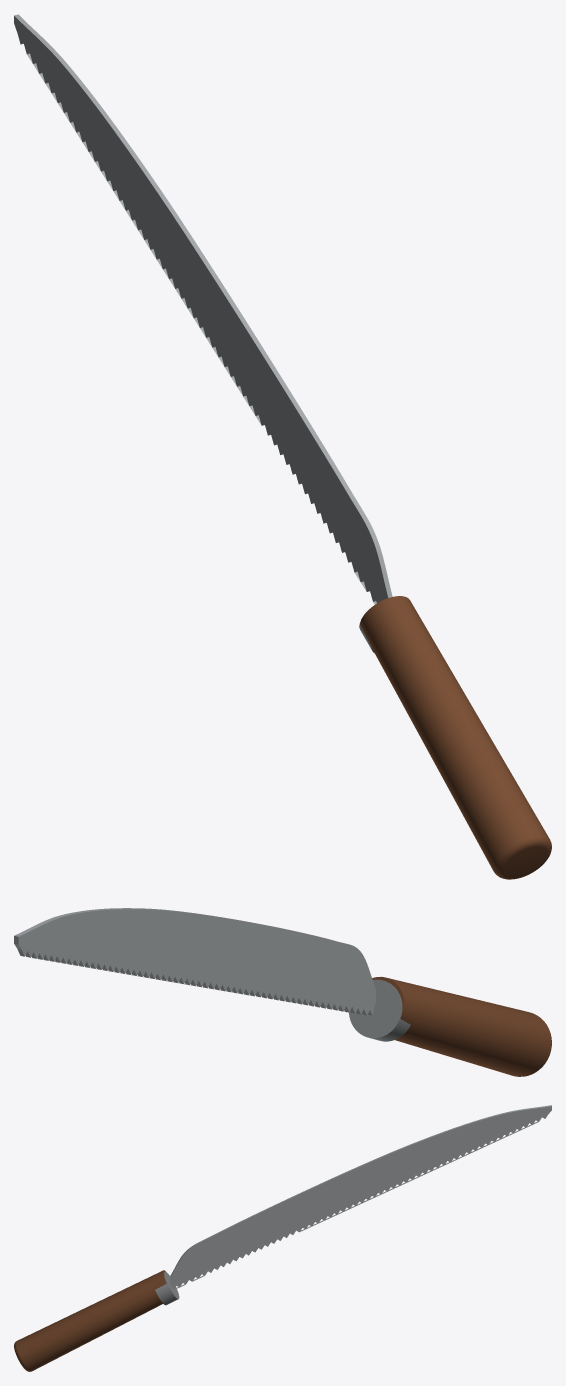
3 renders of one model, top to bottom at view 1: azimuth 30°, elevation 25°; view 2: azimuth 150°, elevation 25°; view 3: azimuth 270°, elevation 25°, orthographic. The views are drawn at different scales.
Visible parts, largest first — view 1: pruning_saw; view 2: pruning_saw; view 3: pruning_saw.
Part boxes in pixels (x1=…): pruning_saw: x1=14, y1=14, x2=551, y2=879; pruning_saw: x1=14, y1=908, x2=551, y2=1076; pruning_saw: x1=14, y1=1105, x2=551, y2=1371.
Bounding box in the file's own units: 0.0385 × 0.3228 × 0.5974.
